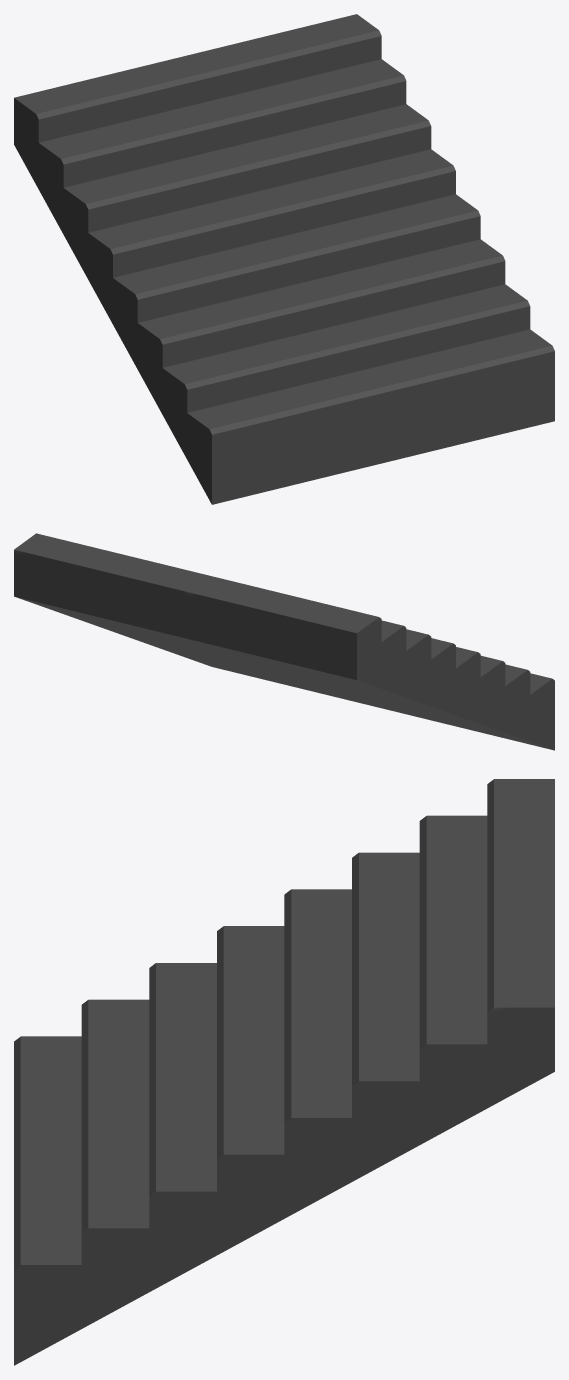
File: Stair_02.fbx
The picture shows the model from 3 angles, top to bottom: view 1: azimuth 30°, elevation 25°; view 2: azimuth 150°, elevation 25°; view 3: azimuth 270°, elevation 25°; orthographic projection. The views are drawn at different scales.
Parts seen in each view (by area): view 1: SM_Bld_Base_Stairs_01; view 2: SM_Bld_Base_Stairs_01; view 3: SM_Bld_Base_Stairs_01.
Part boxes in pixels (bbox=[...]): SM_Bld_Base_Stairs_01: bbox=[14, 14, 554, 504]; SM_Bld_Base_Stairs_01: bbox=[14, 533, 554, 750]; SM_Bld_Base_Stairs_01: bbox=[14, 779, 554, 1365].
Bounding box in the file's own units: 250 × 183 × 250.
